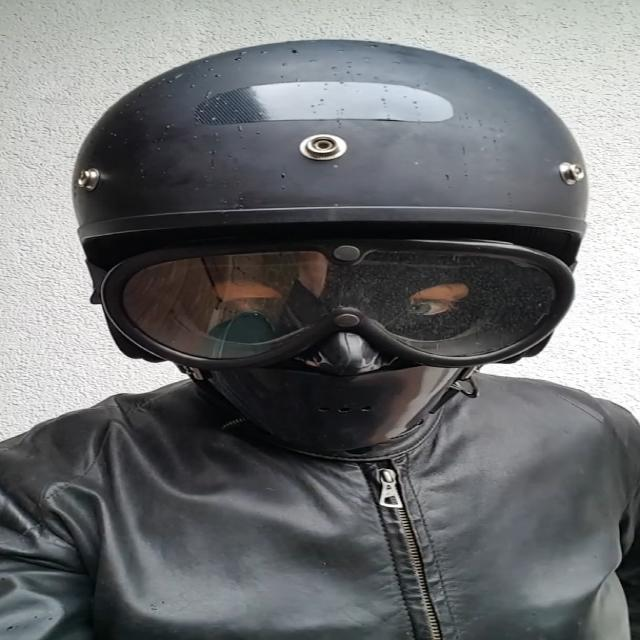Helmet_Wearer: (39, 40, 598, 462)
Jacket_Wearer: (2, 323, 640, 640)
Person: (0, 34, 640, 640)
